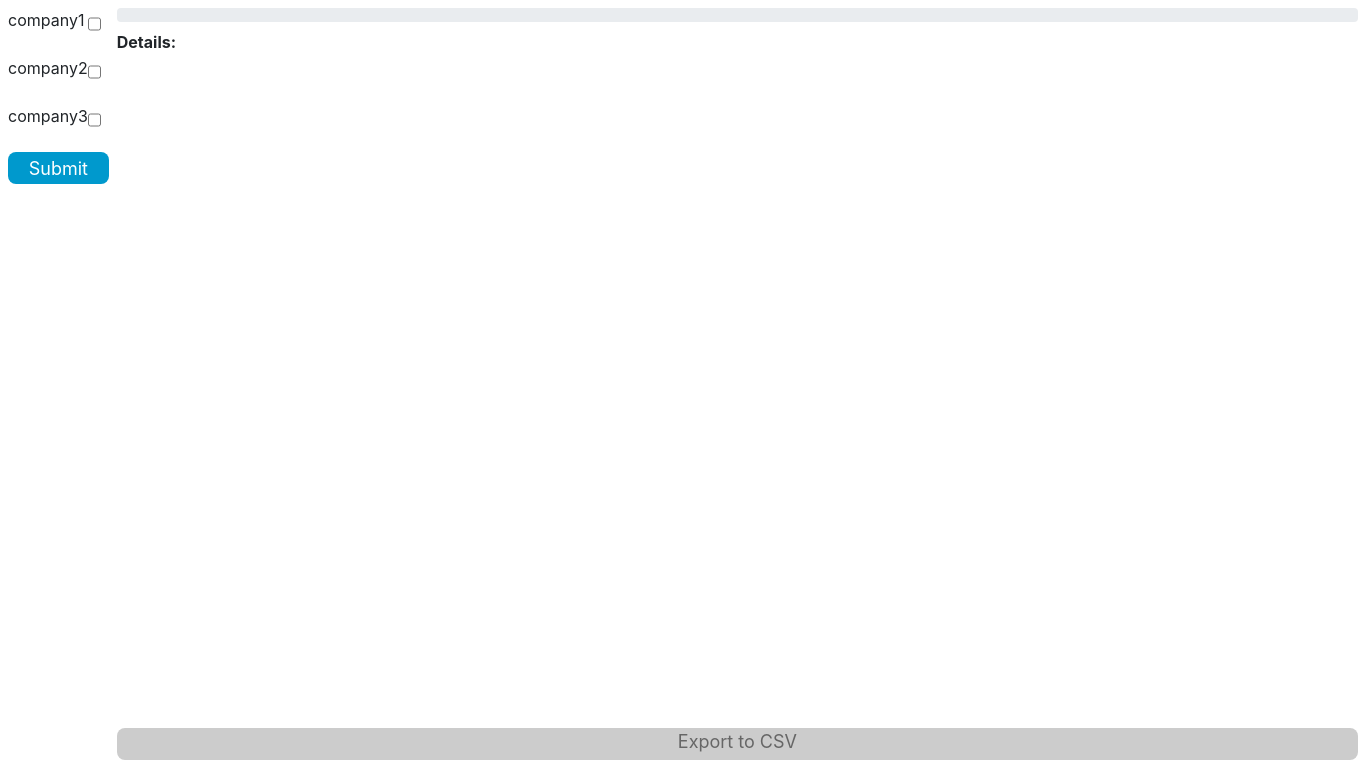
Test: Company List Container › should increment the ProgressBar percentage
What coordinates should you click on to do the following:
click the checkbox labelled "company1"
I would click on:
 (94, 24)
Its box is top-left (88, 8), bottom-right (101, 40).
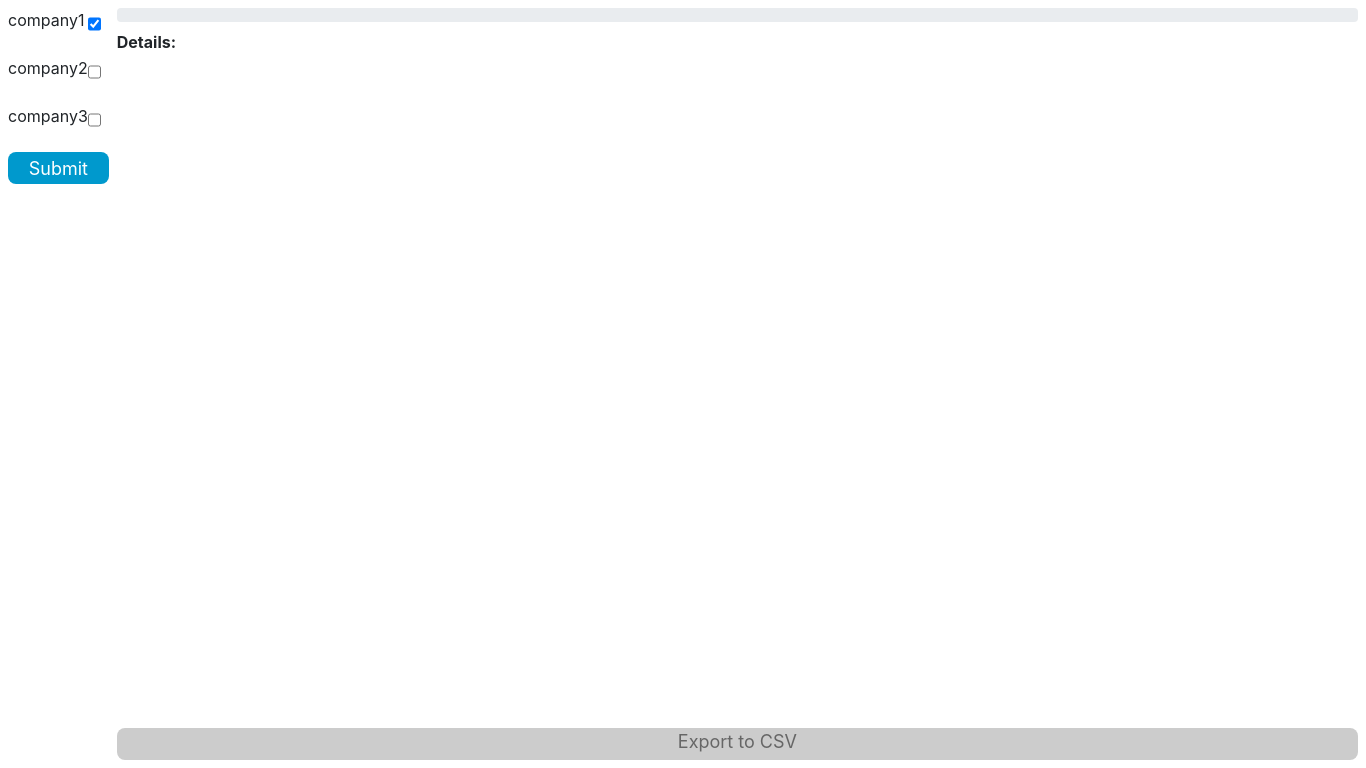
What coordinates should you click on to do the following:
click the button "Submit"
I would click on:
 (58, 168)
Its box is top-left (8, 152), bottom-right (109, 184).
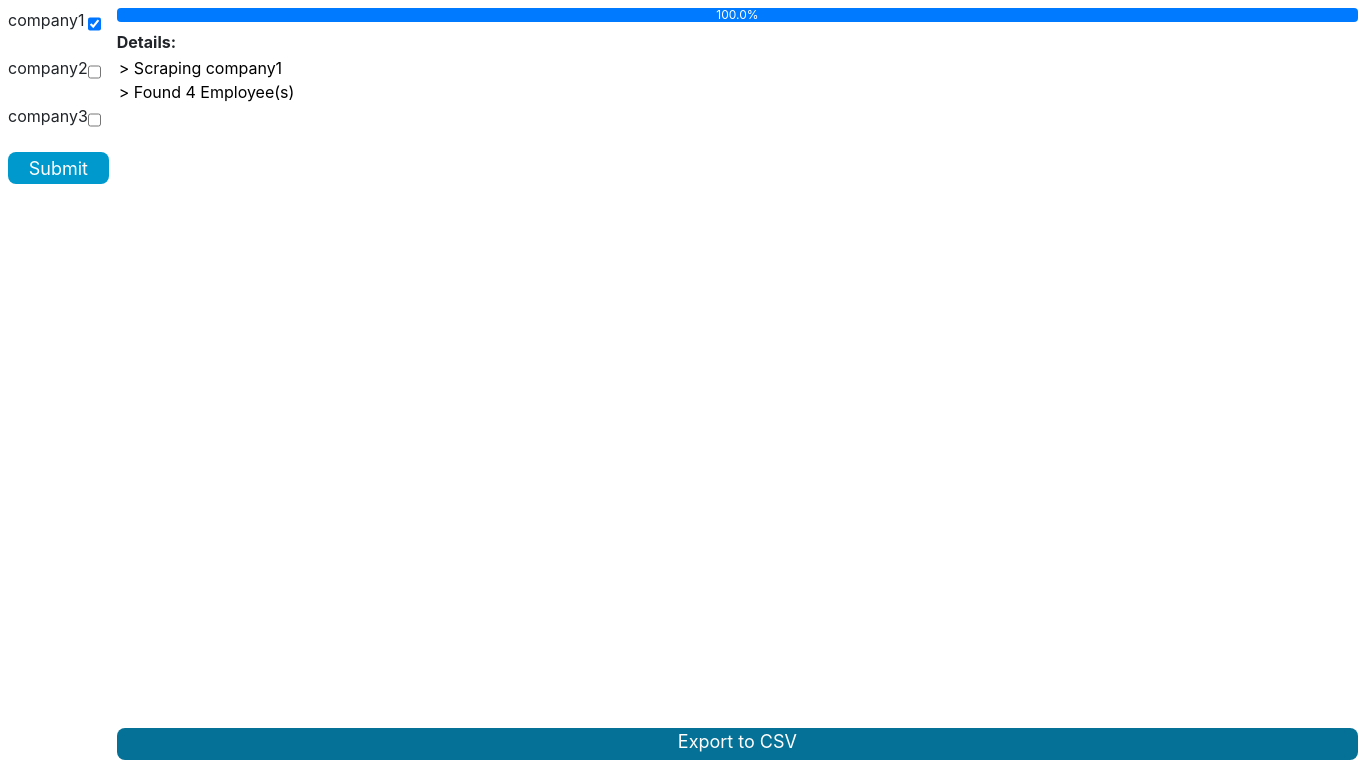
Check: the progress indicator "100.0%" is shown, box top-left (117, 8), bottom-right (1358, 22)
